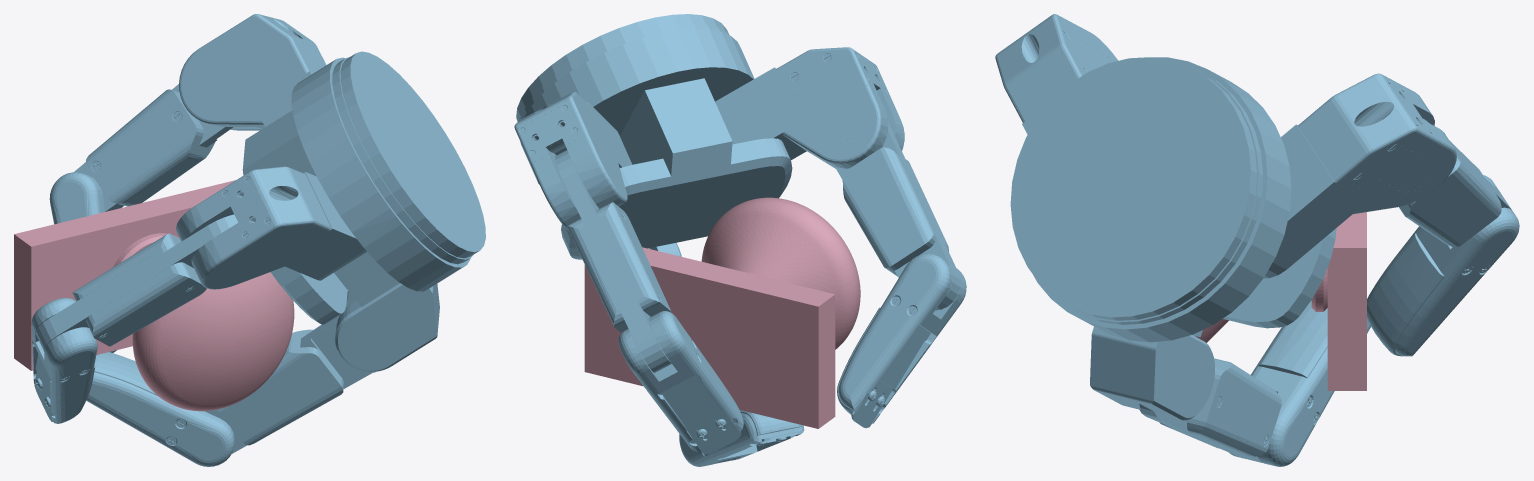
3 renders of one model, left to right at view 1: azimuth 30°, elevation 25°; view 2: azimuth 150°, elevation 25°; view 3: azimuth 270°, elevation 25°, orthographic. The views are drawn at different scales.
Parts seen in each view (by area): view 1: world; view 2: world; view 3: world.
Part boxes in pixels (bbox=[...]): world: bbox=[14, 14, 485, 466]; world: bbox=[514, 14, 966, 466]; world: bbox=[995, 14, 1519, 466].
Bounding box in the file's own units: 0.1816 × 0.1597 × 0.1662.
